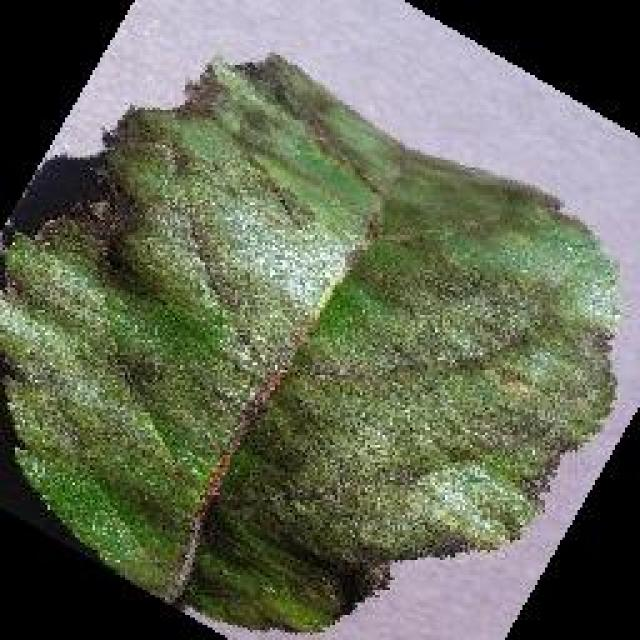apple scab disease: (0, 47, 622, 637)
